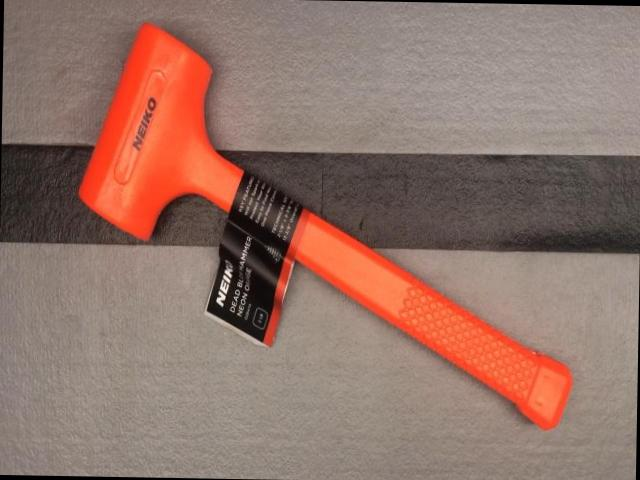hammer: (70, 15, 580, 431)
